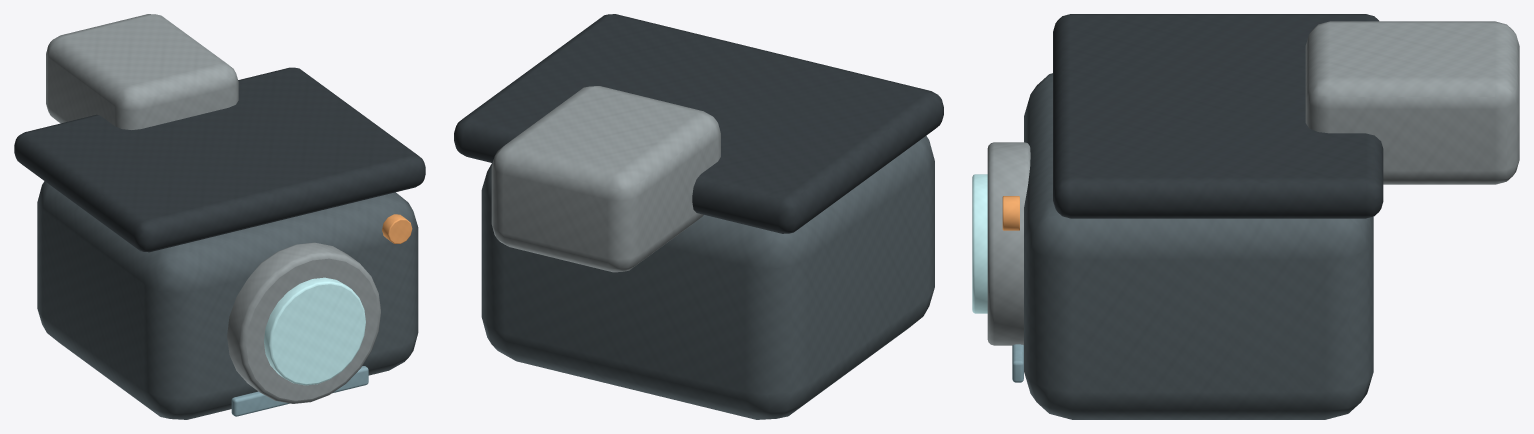
Rendered from SecurityCamera.glb.
3 renders of one model, left to right at view 1: azimuth 30°, elevation 25°; view 2: azimuth 150°, elevation 25°; view 3: azimuth 270°, elevation 25°, orthographic. The views are drawn at different scales.
Parts seen in each view (by area): view 1: SecurityCamera_Mesh; view 2: SecurityCamera_Mesh; view 3: SecurityCamera_Mesh.
Boxes of the visible parts, x1=… form: SecurityCamera_Mesh: x1=14, y1=14, x2=425, y2=419; SecurityCamera_Mesh: x1=454, y1=14, x2=943, y2=419; SecurityCamera_Mesh: x1=972, y1=14, x2=1519, y2=419.
Bounding box in the file's own units: 0.43 × 0.345 × 0.563.
Materials: 6 (6 with a texture image).
